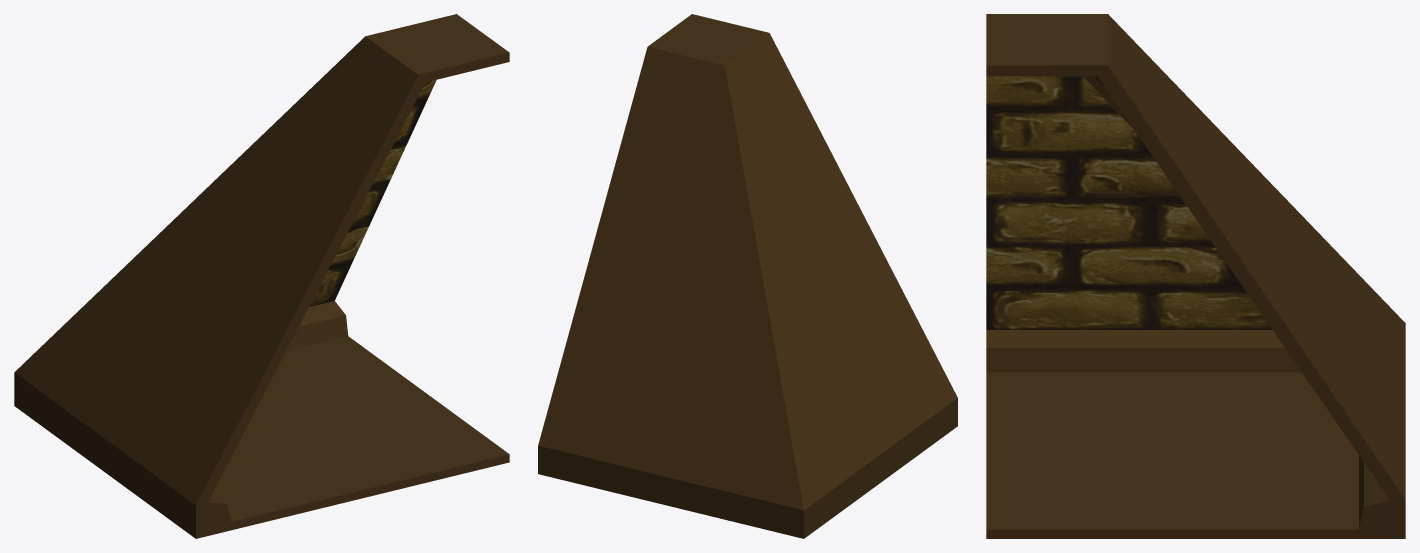
File: CornerWall.FBX
The picture shows the model from 3 angles, left to right: view 1: azimuth 30°, elevation 25°; view 2: azimuth 150°, elevation 25°; view 3: azimuth 270°, elevation 25°; orthographic projection. The views are drawn at different scales.
Parts seen in each view (by area): view 1: Corner; view 2: Corner; view 3: Corner.
Boxes of the visible parts, x1,y1,x2,y2 form: Corner: [14, 14, 509, 538]; Corner: [538, 14, 957, 538]; Corner: [986, 14, 1405, 538].
Size of the model in its own units: 78.81 by 98.43 by 79.06.
